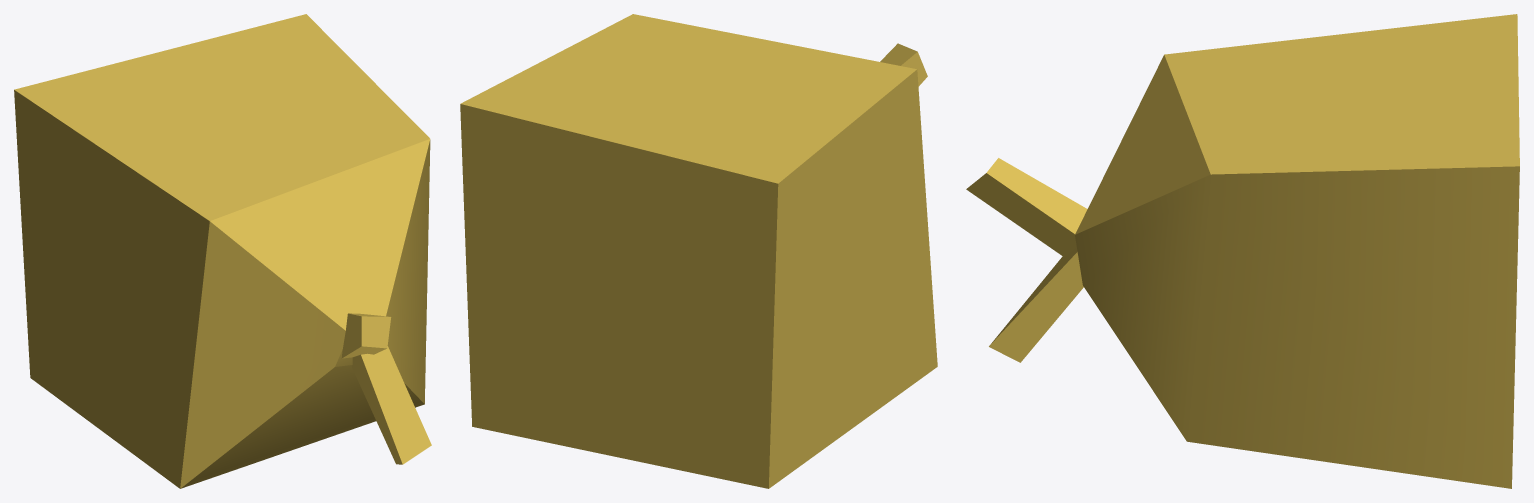
The model's file is Garbage_1.glb.
3 renders of one model, left to right at view 1: azimuth 30°, elevation 25°; view 2: azimuth 150°, elevation 25°; view 3: azimuth 270°, elevation 25°, orthographic. The views are drawn at different scales.
Parts seen in each view (by area): view 1: Garbage_1; view 2: Garbage_1; view 3: Garbage_1.
Part boxes in pixels (<box>): Garbage_1: <box>14,14,431,488</box>; Garbage_1: <box>460,14,937,488</box>; Garbage_1: <box>966,14,1519,488</box>.
Bounding box in the file's own units: 0.9431 × 0.9213 × 1.42.
